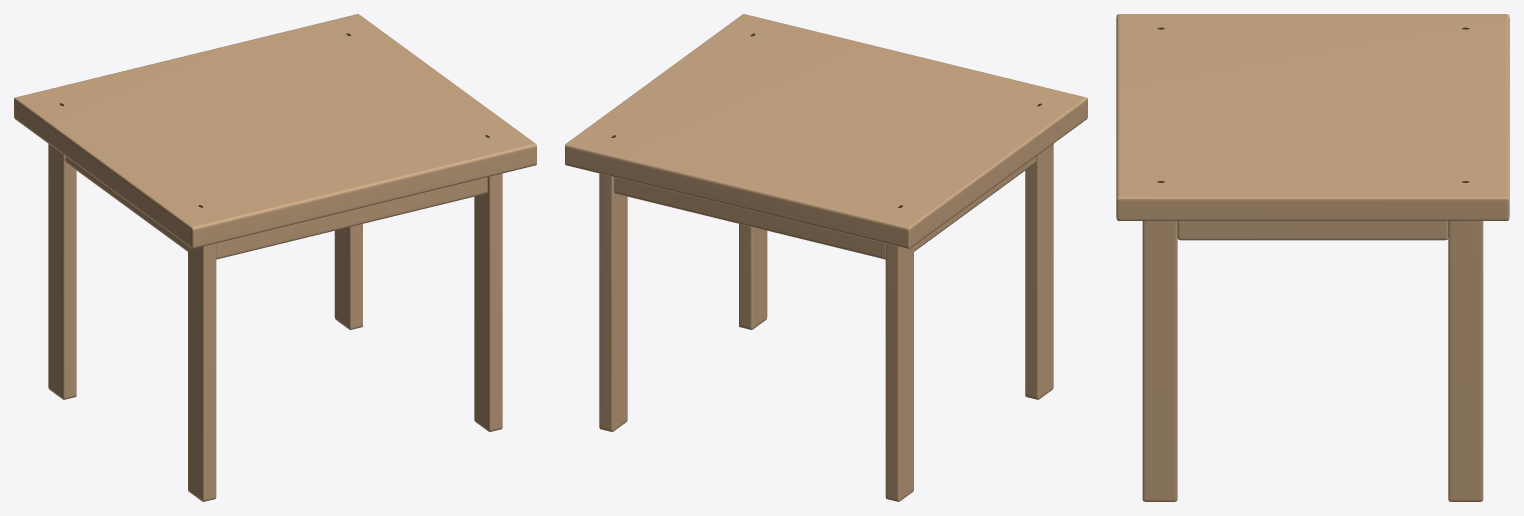
Rendered from table.fbx.
The picture shows the model from 3 angles, left to right: view 1: azimuth 30°, elevation 25°; view 2: azimuth 150°, elevation 25°; view 3: azimuth 270°, elevation 25°; orthographic projection. The views are drawn at different scales.
Parts seen in each view (by area): view 1: Tavolino; view 2: Tavolino; view 3: Tavolino.
Boxes of the visible parts, x1,y1,x2,y2 form: Tavolino: [14, 14, 536, 501]; Tavolino: [565, 14, 1087, 501]; Tavolino: [1116, 14, 1509, 501].
Size of the model in its own units: 10000 by 8006 by 9000.
